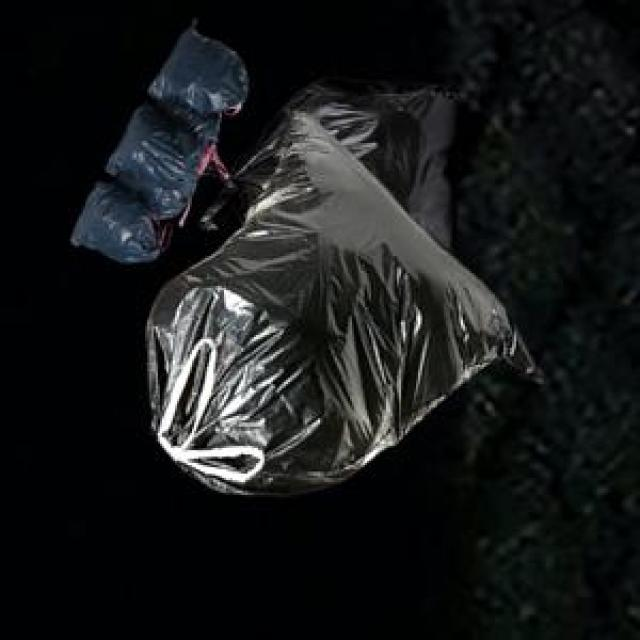Trashbag: (149, 202, 524, 504), (155, 25, 251, 114), (121, 103, 207, 192), (78, 182, 163, 263)
